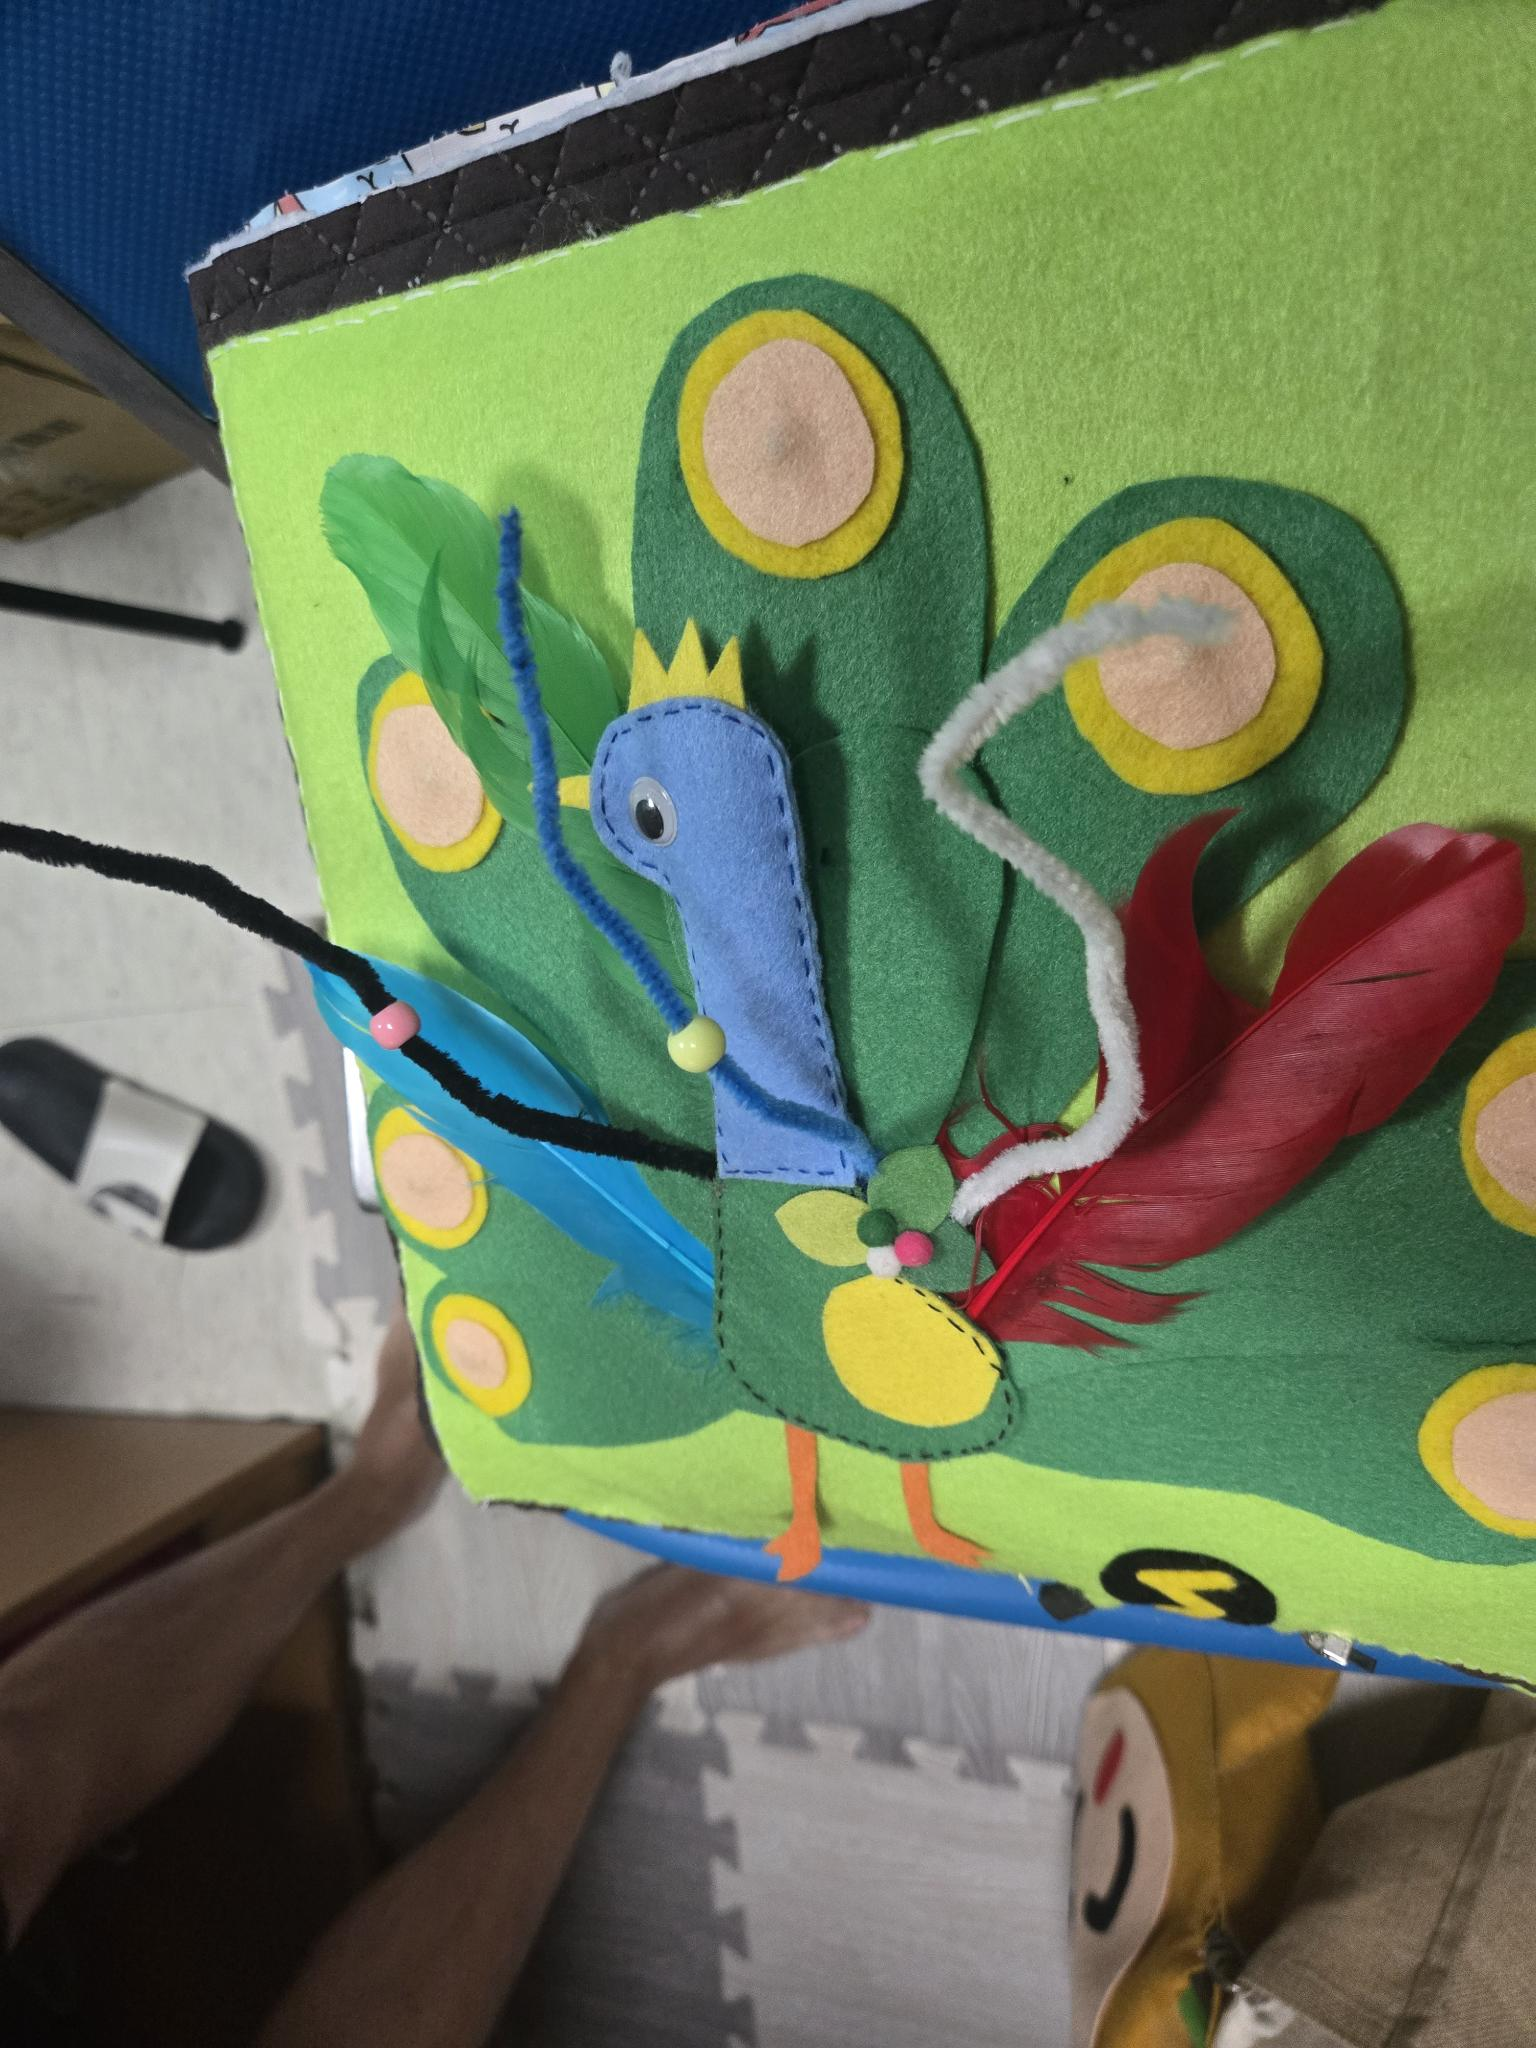bead: (636, 1005, 747, 1087), (358, 979, 439, 1071)
